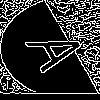A: (24, 25, 100, 74)
